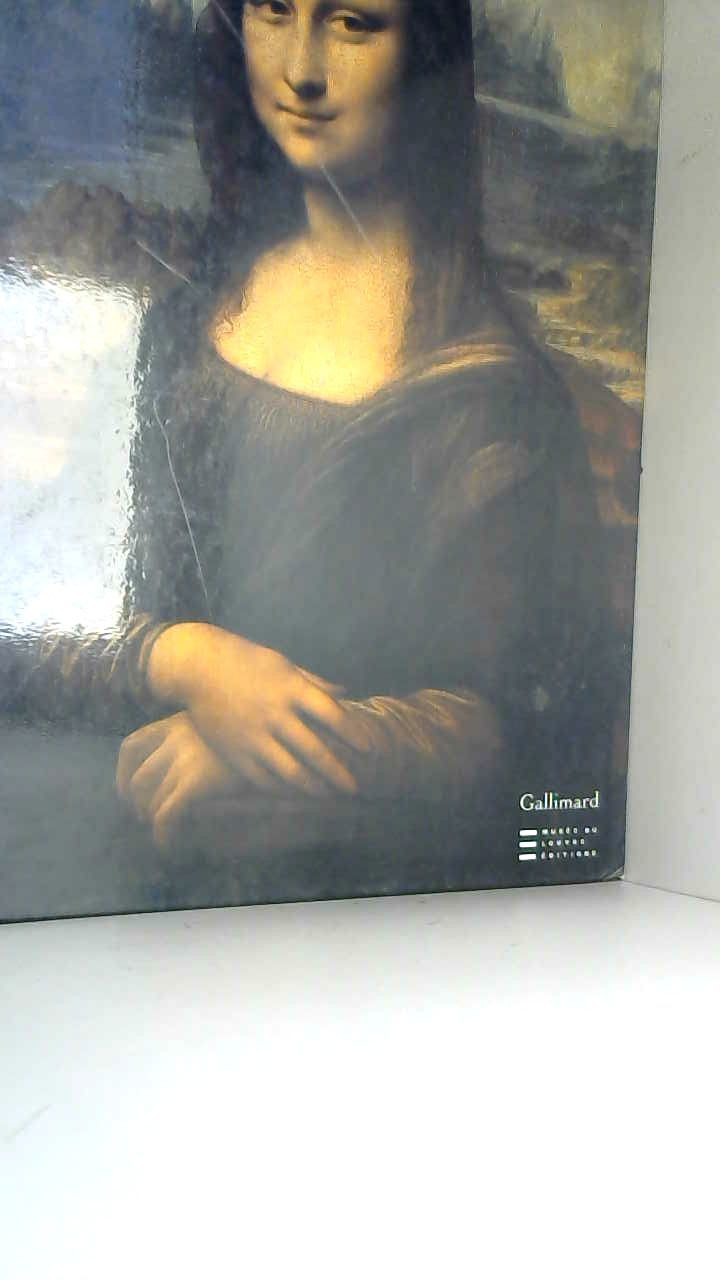book: (0, 0, 677, 935)
